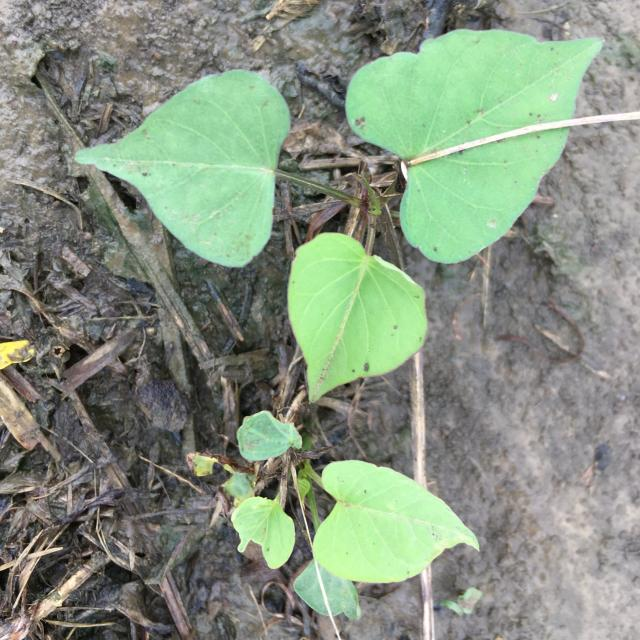MorningGlory: (75, 29, 606, 403), (189, 410, 481, 620)
